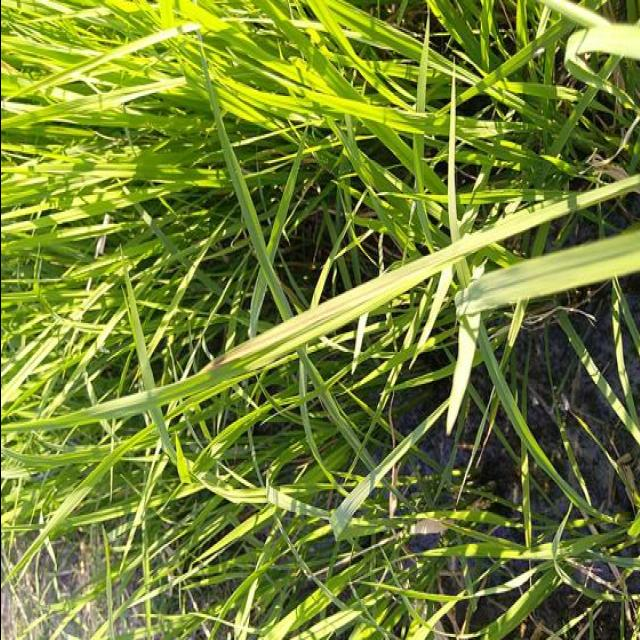Leaf Streak: (201, 314, 315, 373)
